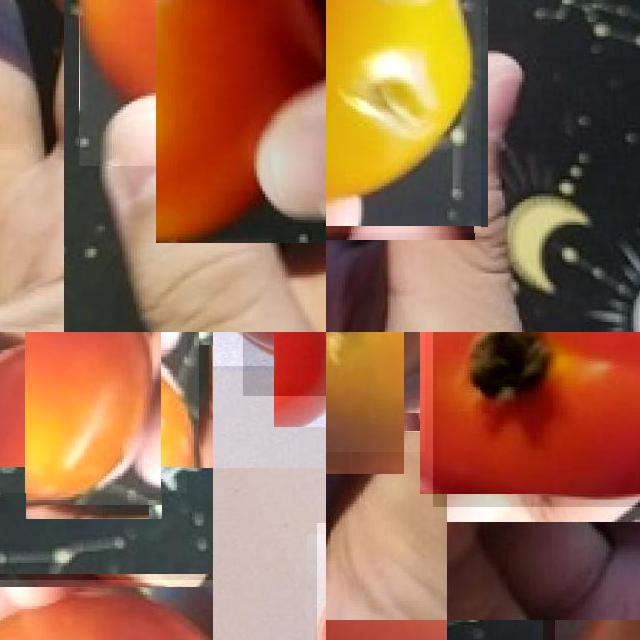Fresh Tomato: (156, 0, 326, 243), (433, 332, 640, 507), (0, 332, 187, 493), (243, 332, 326, 396)
Rotten Tomato: (326, 0, 481, 233)
